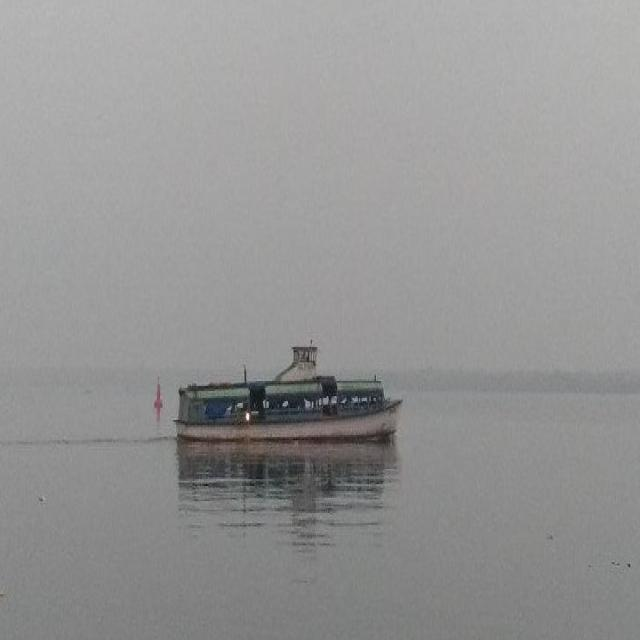fishing boat: (164, 313, 412, 450)
